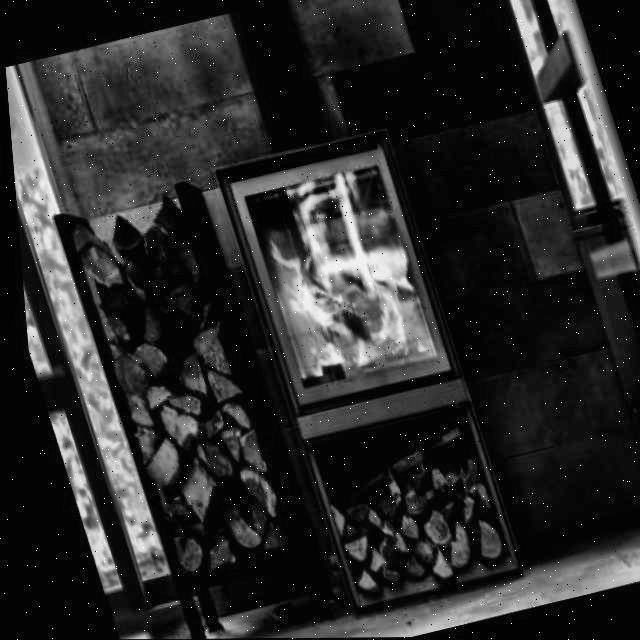Smoke: (250, 204, 428, 382)
